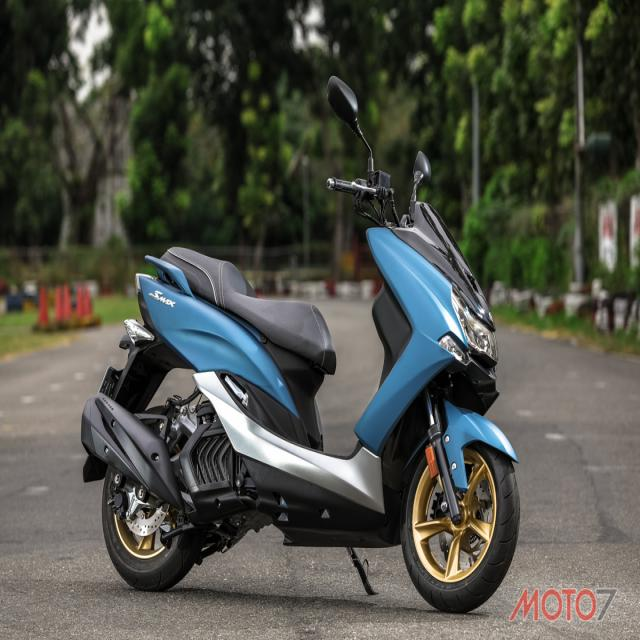Bike: (81, 77, 519, 612)
